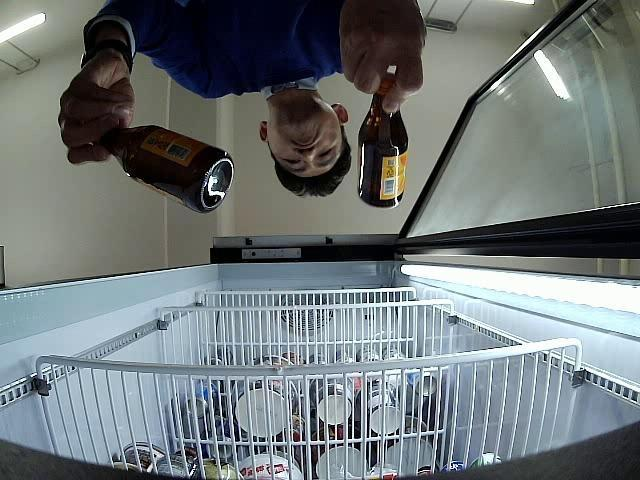17_vita500: (110, 125, 235, 215), (356, 73, 404, 208)
